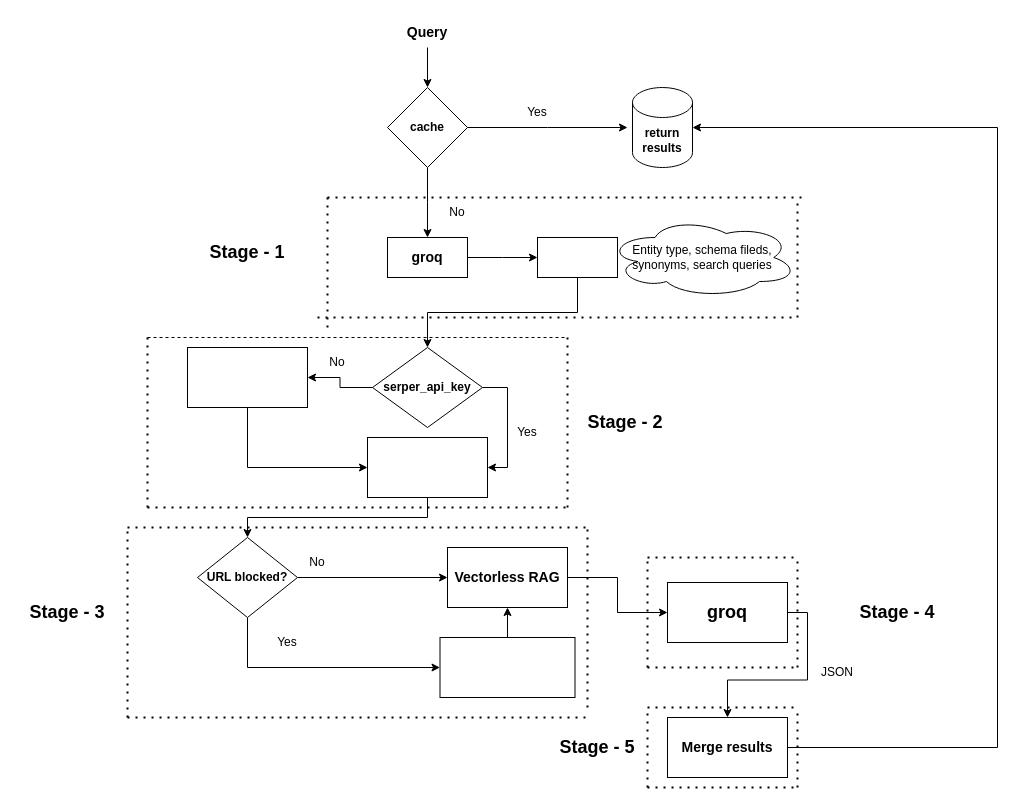
This 1023x806 diagram has some shape labels left out. The centre of each missing label's shape, as x and y in pixels:
"Extract from duckduckgo" belongs at point 247,377.
"Pages + url" belongs at point 427,467.
"SearchPlan" belongs at point 577,257.
"Use search snippet" belongs at point 507,667.
